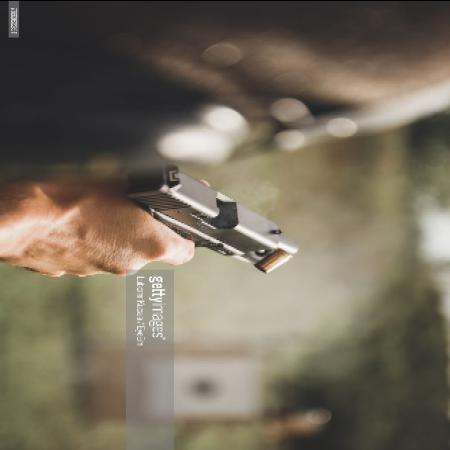Pistol: (120, 153, 303, 273)
